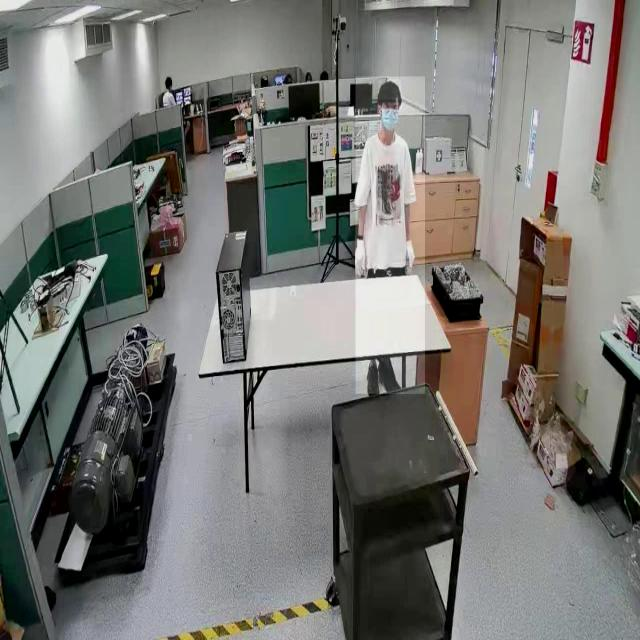face_mask: (377, 100, 401, 138)
hand_glove: (351, 236, 372, 276), (402, 230, 417, 276)
head_nohelmet: (378, 79, 401, 101), (165, 76, 172, 82)
person: (355, 76, 425, 394)
